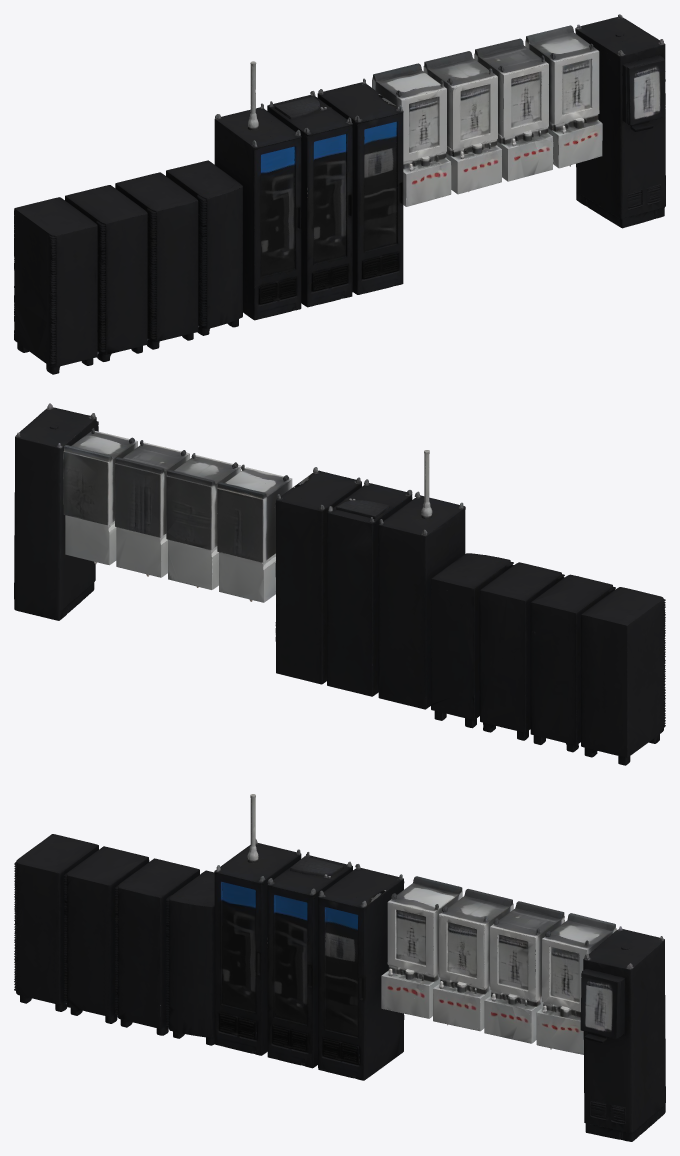
File: pods.glb
3 views of the same model, one above another, from view 1: azimuth 30°, elevation 25°; view 2: azimuth 150°, elevation 25°; view 3: azimuth 330°, elevation 25° (orthographic).
Visible parts, largest first — view 1: model; view 2: model; view 3: model.
Part boxes in pixels (x1,y1,x2,y2): model: (14, 14, 665, 374); model: (14, 403, 665, 765); model: (14, 794, 665, 1141).
Size of the model in its own units: 1.9 by 0.7311 by 0.2611.
1 material, 1 textured.
